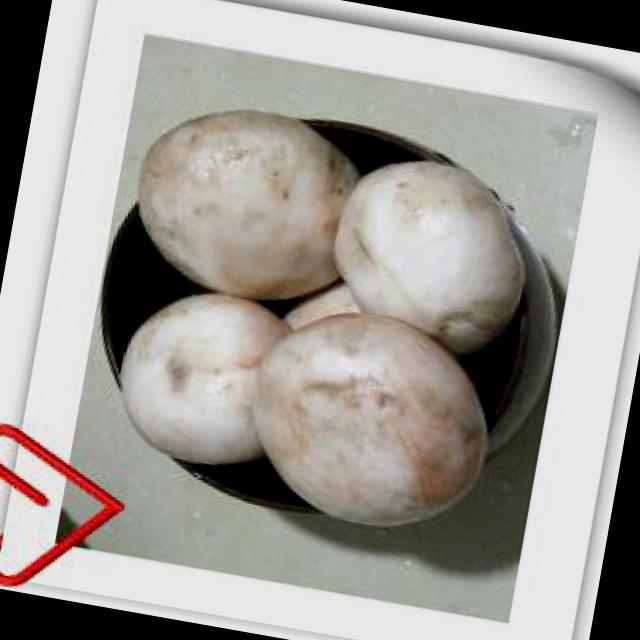Agaricus bisporus: (240, 286, 510, 542), (131, 90, 354, 316), (327, 143, 526, 352), (110, 278, 292, 476)
